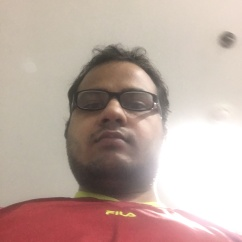glasses: (68, 87, 159, 110)
